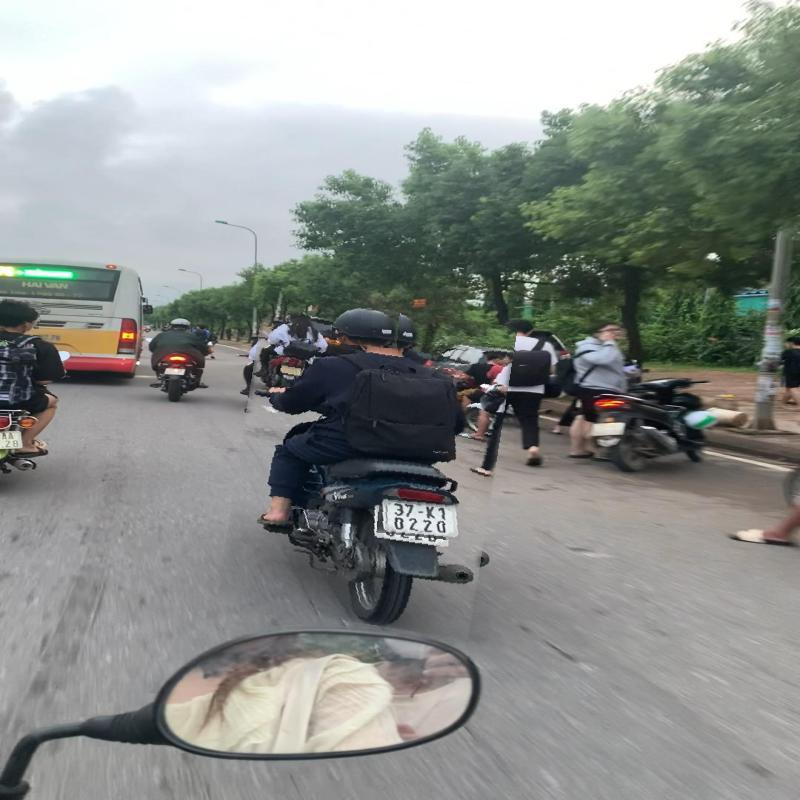helmet: (332, 306, 399, 348)
licenseplate: (377, 497, 464, 539)
motorcyclist: (228, 297, 506, 632)
nohelmet: (0, 299, 41, 333)
